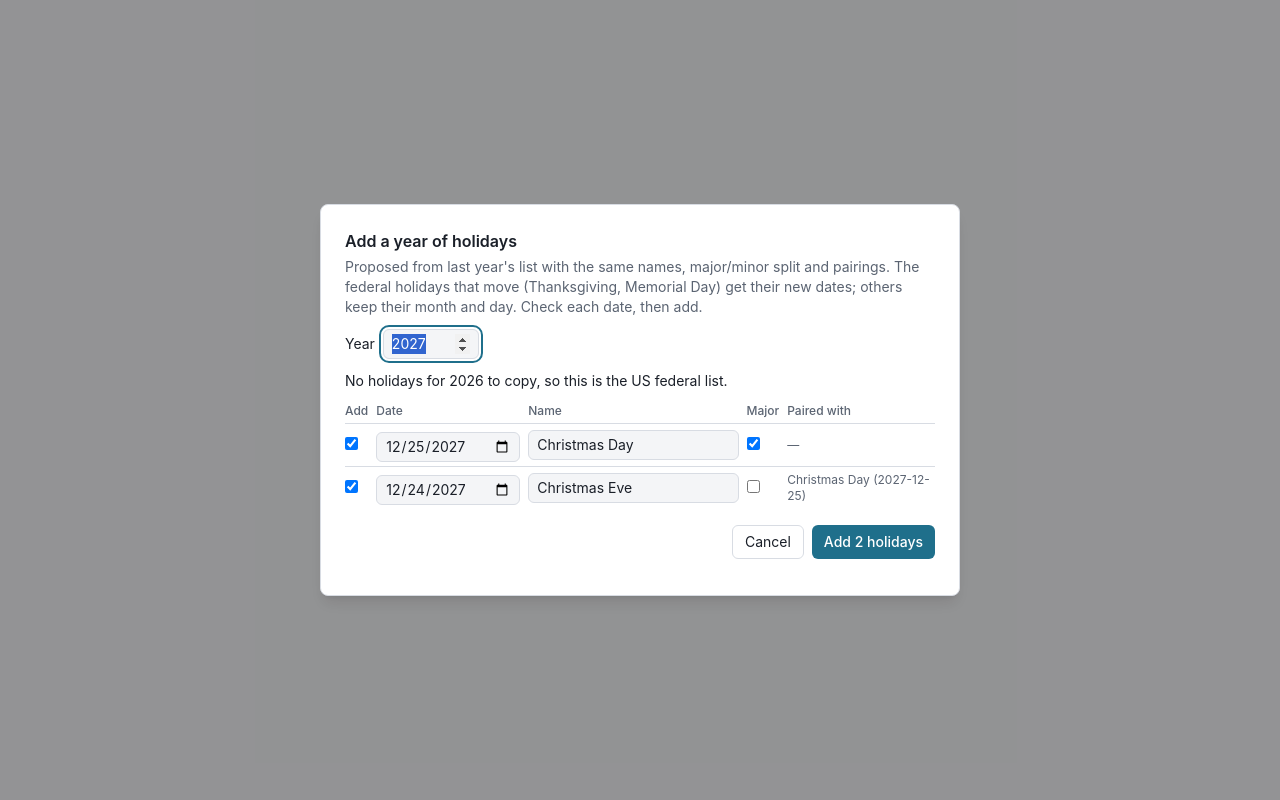
Scenario: Settings › Holidays › Add a year › does not ask for a plan for an empty year
Expected: the button "Add 2 holidays" is shown, [812,525,935,559]
Clear the number field labelled "Year" at [431, 344], box [383,329,479,359]
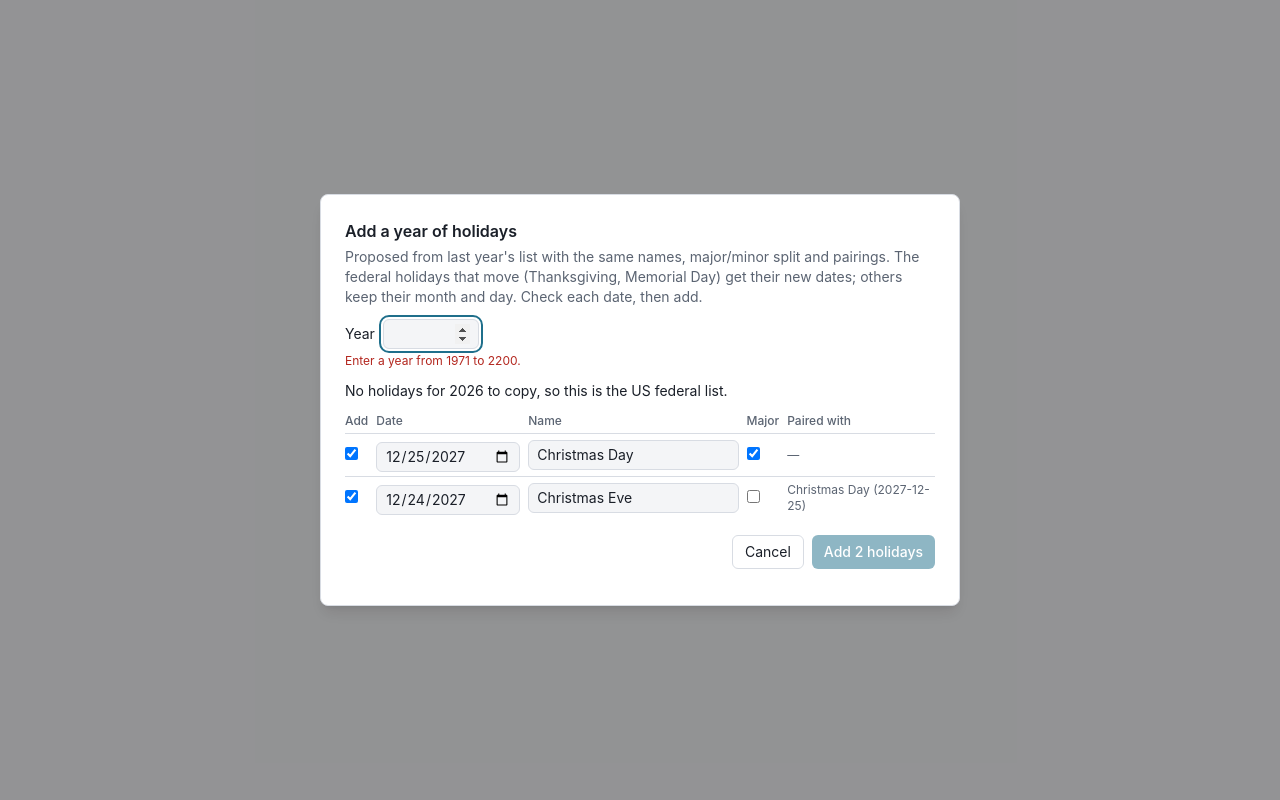
Expected: the text "Enter a year from 1971 to 2200." is shown, [345,353,521,368]
Expected: the button "Add 2 holidays" is disabled, [812,535,935,569]
